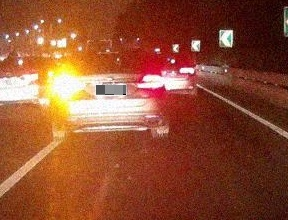L_light: (57, 77, 86, 95)
R_light: (135, 74, 166, 90)
T_light: (99, 52, 118, 55)
night-left: (56, 47, 169, 139)
plate_1: (96, 85, 126, 95)
